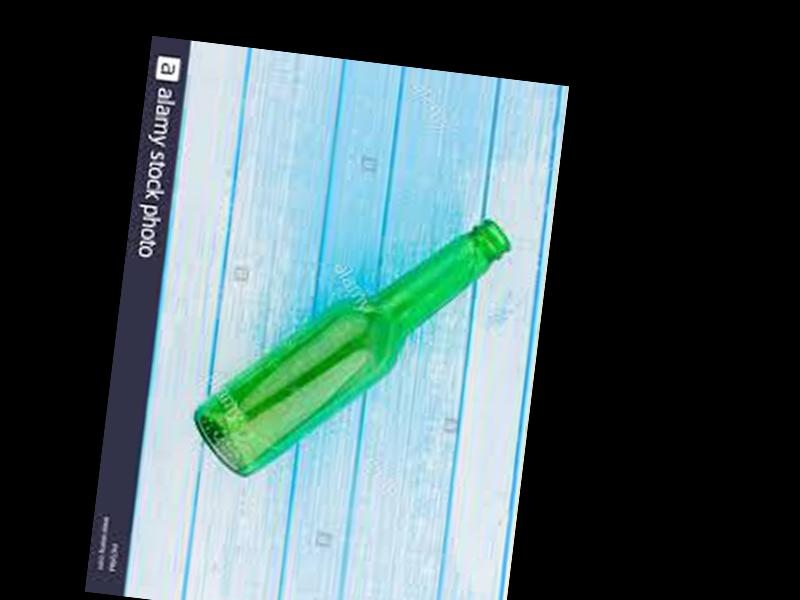Beer: (182, 183, 515, 508)
